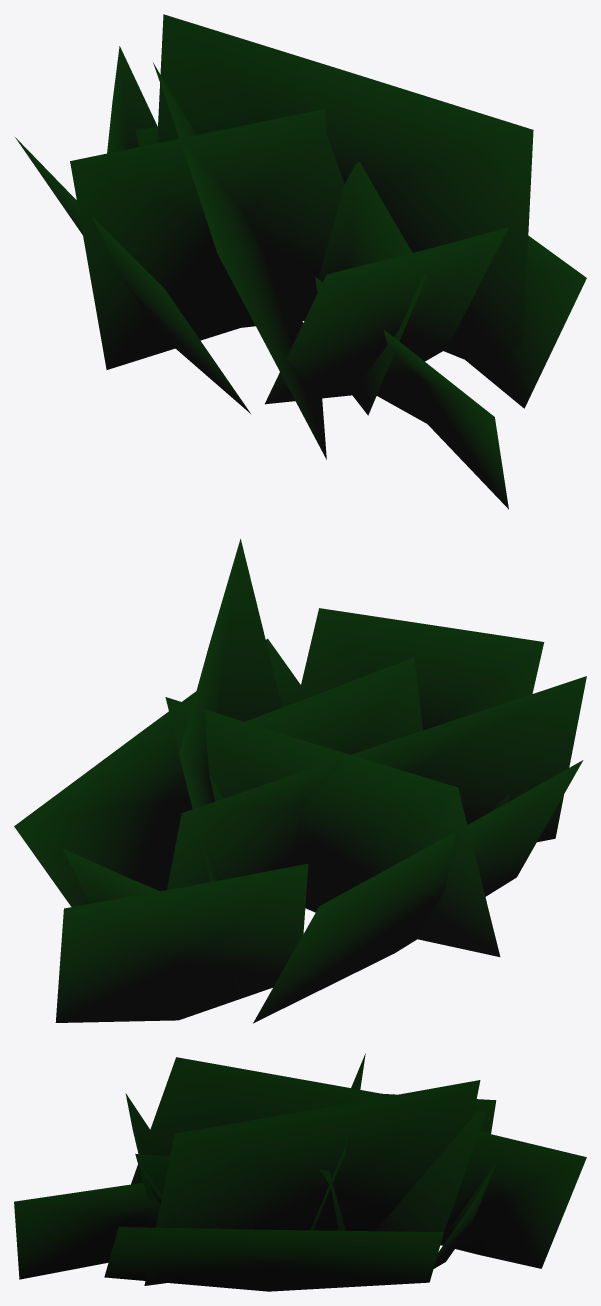
The model's file is WeatStalkShortRHEP_A.fbx.
3 views of the same model, one above another, from view 1: azimuth 30°, elevation 25°; view 2: azimuth 150°, elevation 25°; view 3: azimuth 270°, elevation 25° (orthographic). The views are drawn at different scales.
Parts seen in each view (by area): view 1: WeatStalkShortA_LOD0; view 2: WeatStalkShortA_LOD0; view 3: WeatStalkShortA_LOD0.
Part boxes in pixels (x1,y1,x2,y2): WeatStalkShortA_LOD0: (15, 14, 586, 509); WeatStalkShortA_LOD0: (14, 539, 586, 1023); WeatStalkShortA_LOD0: (14, 1053, 586, 1291).
Size of what is drawn, in the model's own units: 1.71 by 1.23 by 3.31.
